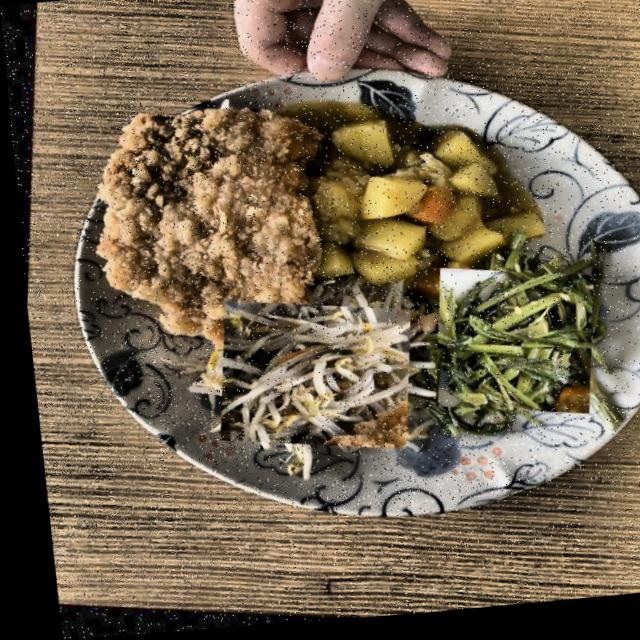Food: (80, 92, 326, 334), (289, 96, 557, 318), (199, 288, 418, 469), (415, 261, 600, 434)
